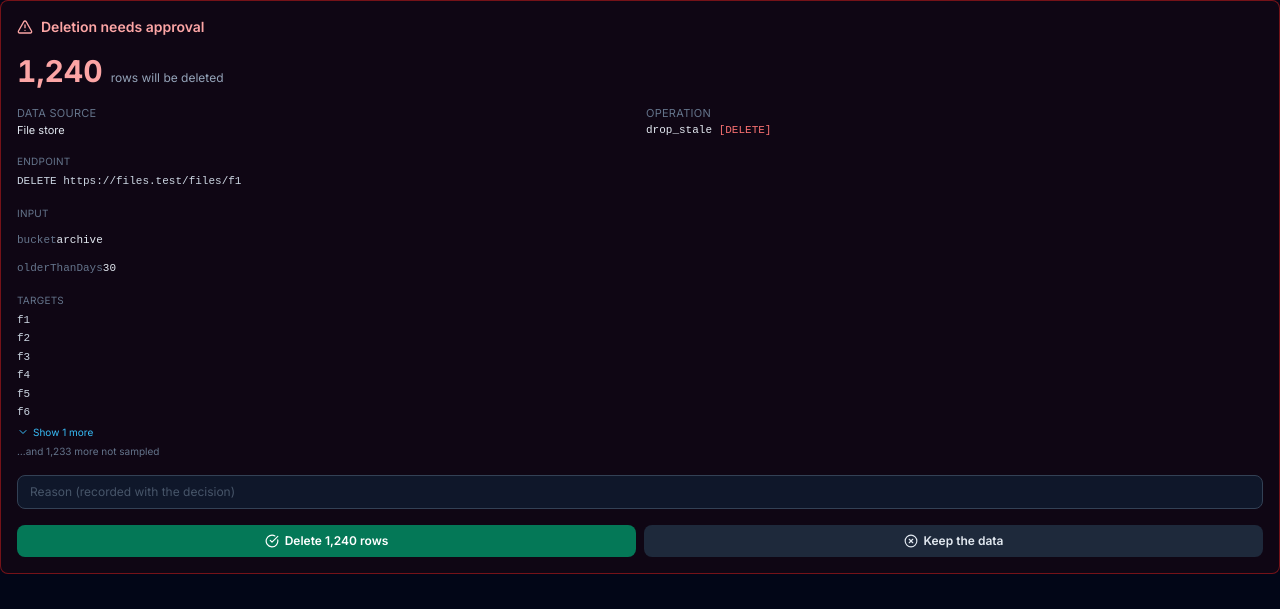
Test: DatasourceApprovalPanel › shows six targets and offers the rest behind one click
Expected: the list item "f6" is shown, [17,406,30,418]
Expected: the text "f7" is not shown
Click the button "Show 1 more": click(55, 432) [17,424,93,440]
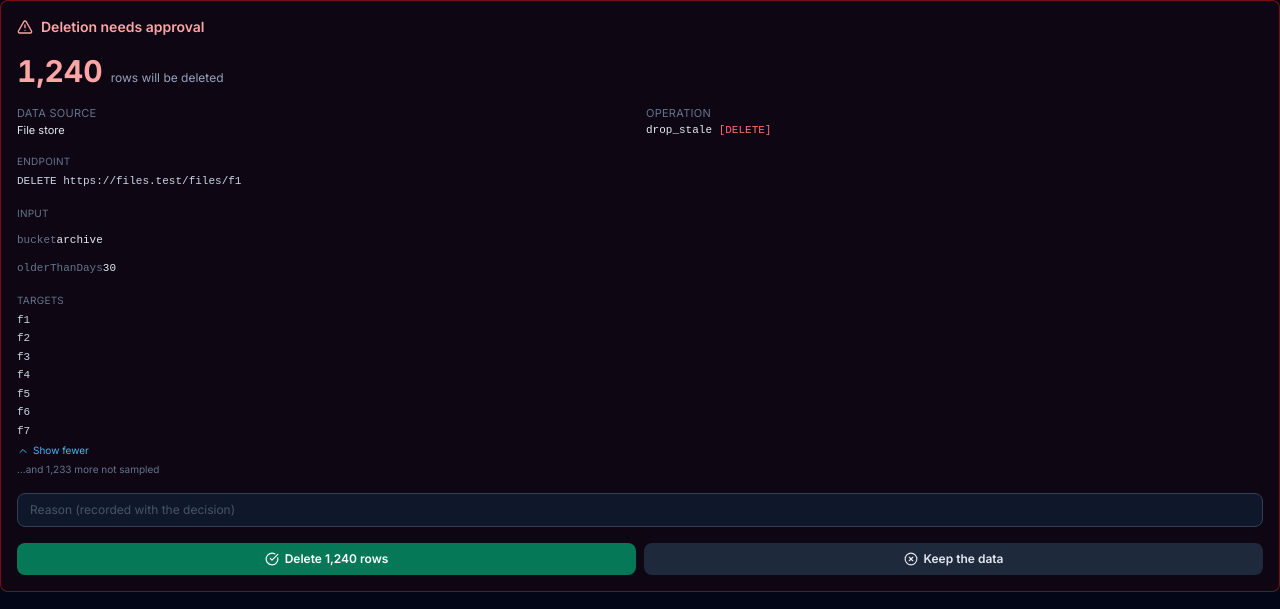
Now the list item "f7" is shown, box [17,424,30,436]
